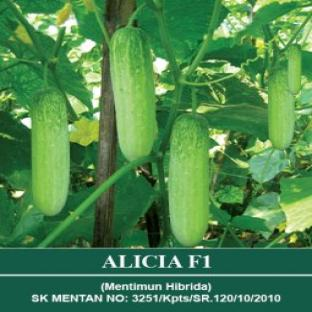Cucumber: (111, 28, 156, 161), (169, 115, 209, 246), (31, 89, 69, 215), (268, 69, 294, 149), (288, 45, 302, 95)
